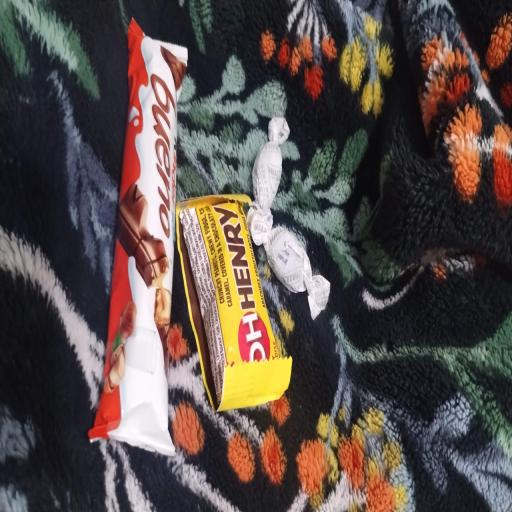chocolate: (89, 21, 187, 454), (177, 196, 291, 410)
